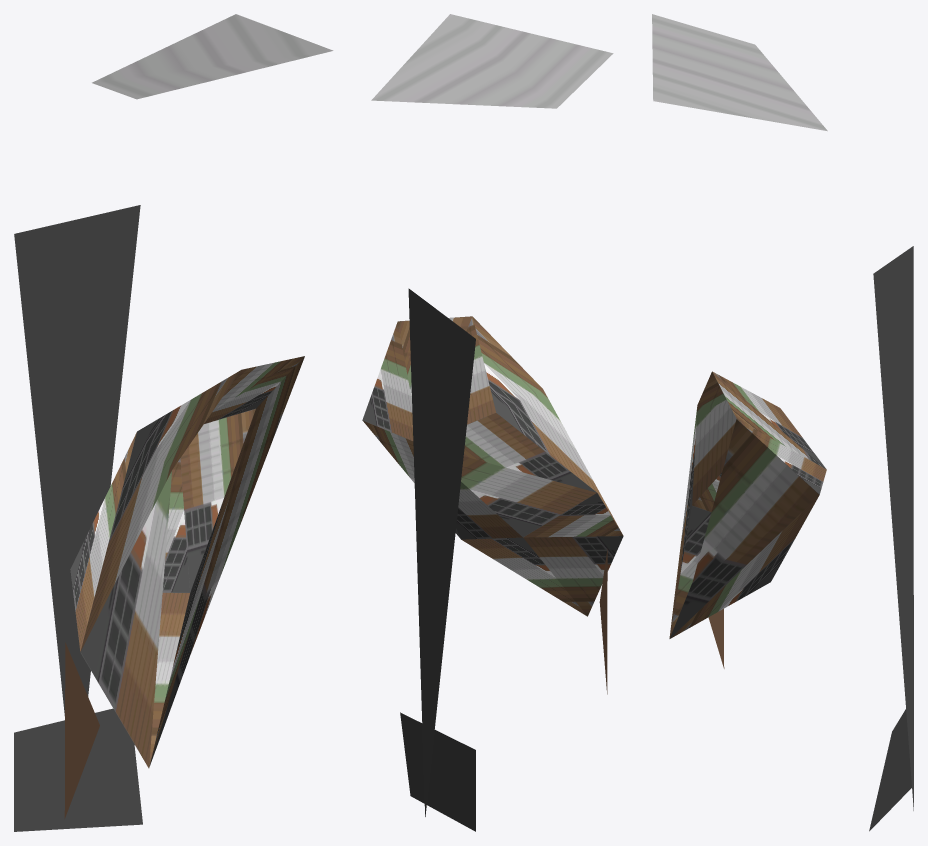
File: Tower.fbx
3 views of the same model, side by side, from view 1: azimuth 30°, elevation 25°; view 2: azimuth 150°, elevation 25°; view 3: azimuth 270°, elevation 25° (orthographic). The views are drawn at different scales.
Visible parts, largest first — view 1: Tower_cell, Tower_cell.001, Tower_cell.020, Tower_cell.024, Tower_cell.023; view 2: Tower_cell, Tower_cell.001, Tower_cell.024, Tower_cell.020, Tower_cell.023; view 3: Tower_cell, Tower_cell.001, Tower_cell.024, Tower_cell.020, Tower_cell.023.
Part boxes in pixels (bbox=[...]): Tower_cell: bbox=[70, 356, 304, 768]; Tower_cell.001: bbox=[14, 205, 140, 715]; Tower_cell.020: bbox=[14, 708, 142, 831]; Tower_cell.024: bbox=[92, 14, 333, 99]; Tower_cell.023: bbox=[64, 642, 99, 818]; Tower_cell: bbox=[362, 316, 623, 616]; Tower_cell.001: bbox=[408, 288, 475, 816]; Tower_cell.024: bbox=[371, 14, 613, 108]; Tower_cell.020: bbox=[400, 712, 475, 831]; Tower_cell.023: bbox=[599, 549, 607, 694]; Tower_cell: bbox=[669, 371, 826, 638]; Tower_cell.001: bbox=[873, 246, 913, 810]; Tower_cell.024: bbox=[652, 14, 827, 131]; Tower_cell.020: bbox=[869, 709, 911, 831]; Tower_cell.023: bbox=[708, 609, 724, 668].
Size of the model in its own units: 1.9 by 6.14 by 1.91.
